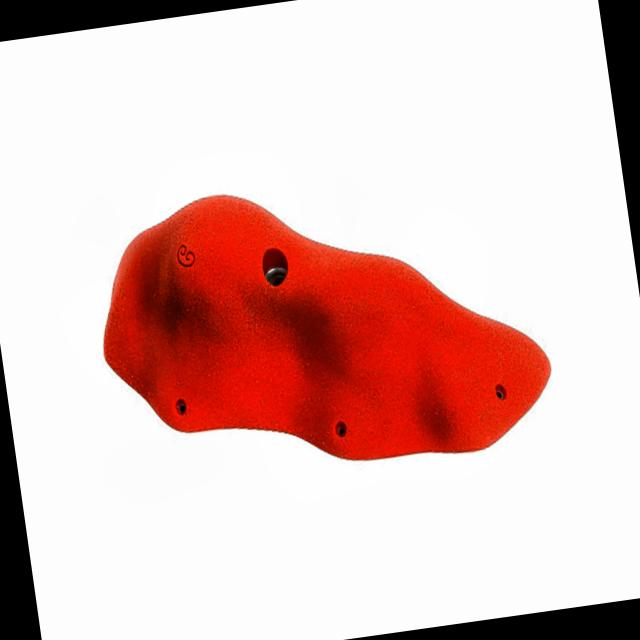Hold: (80, 146, 572, 502)
